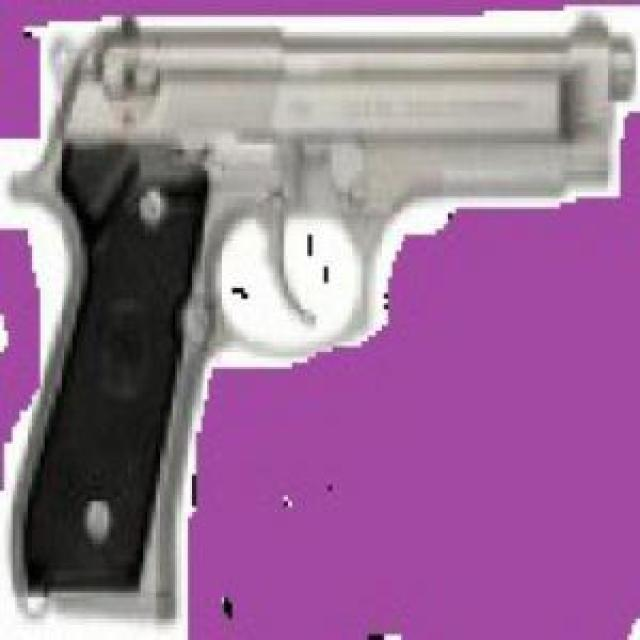pistol: (13, 6, 628, 625)
